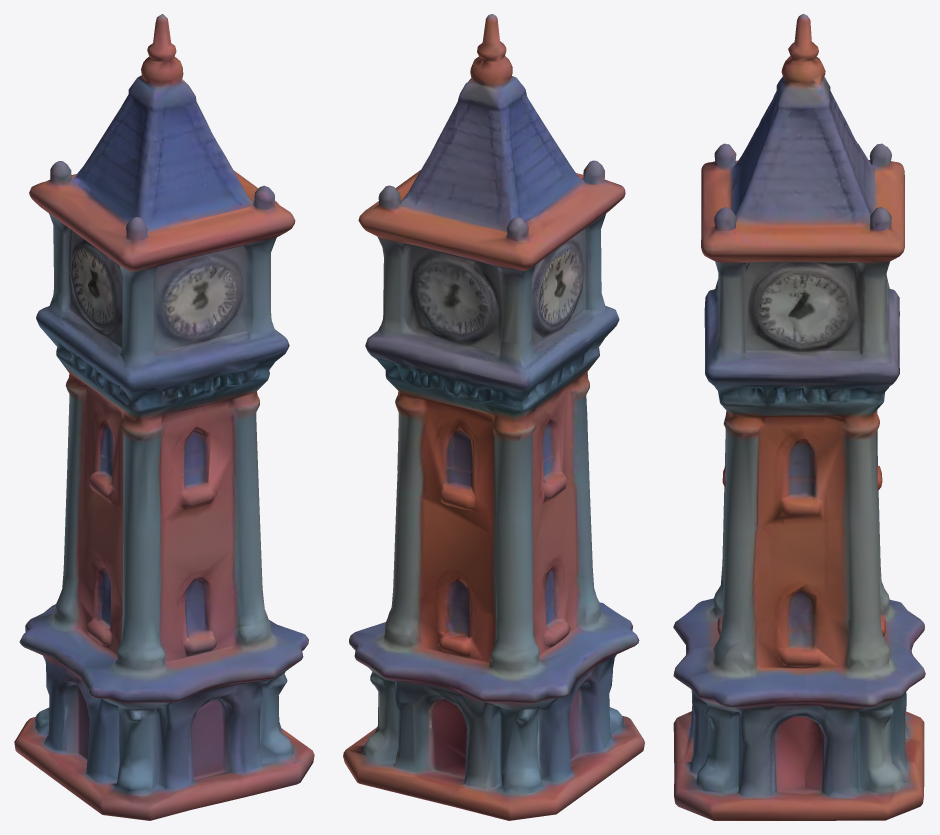
Rendered from clock_tower.glb.
3 views of the same model, side by side, from view 1: azimuth 30°, elevation 25°; view 2: azimuth 150°, elevation 25°; view 3: azimuth 270°, elevation 25° (orthographic).
Parts seen in each view (by area): view 1: tripo_node_51c116c4-04e2-4cb2-8b0a-f2ae4fec6511; view 2: tripo_node_51c116c4-04e2-4cb2-8b0a-f2ae4fec6511; view 3: tripo_node_51c116c4-04e2-4cb2-8b0a-f2ae4fec6511.
Part boxes in pixels (x1,y1,x2,y2): tripo_node_51c116c4-04e2-4cb2-8b0a-f2ae4fec6511: (14,14,314,820); tripo_node_51c116c4-04e2-4cb2-8b0a-f2ae4fec6511: (343,14,644,820); tripo_node_51c116c4-04e2-4cb2-8b0a-f2ae4fec6511: (673,14,925,820).
Size of the model in its own units: 0.2888 by 0.9461 by 0.2838.
Materials: 1 (1 with a texture image).
